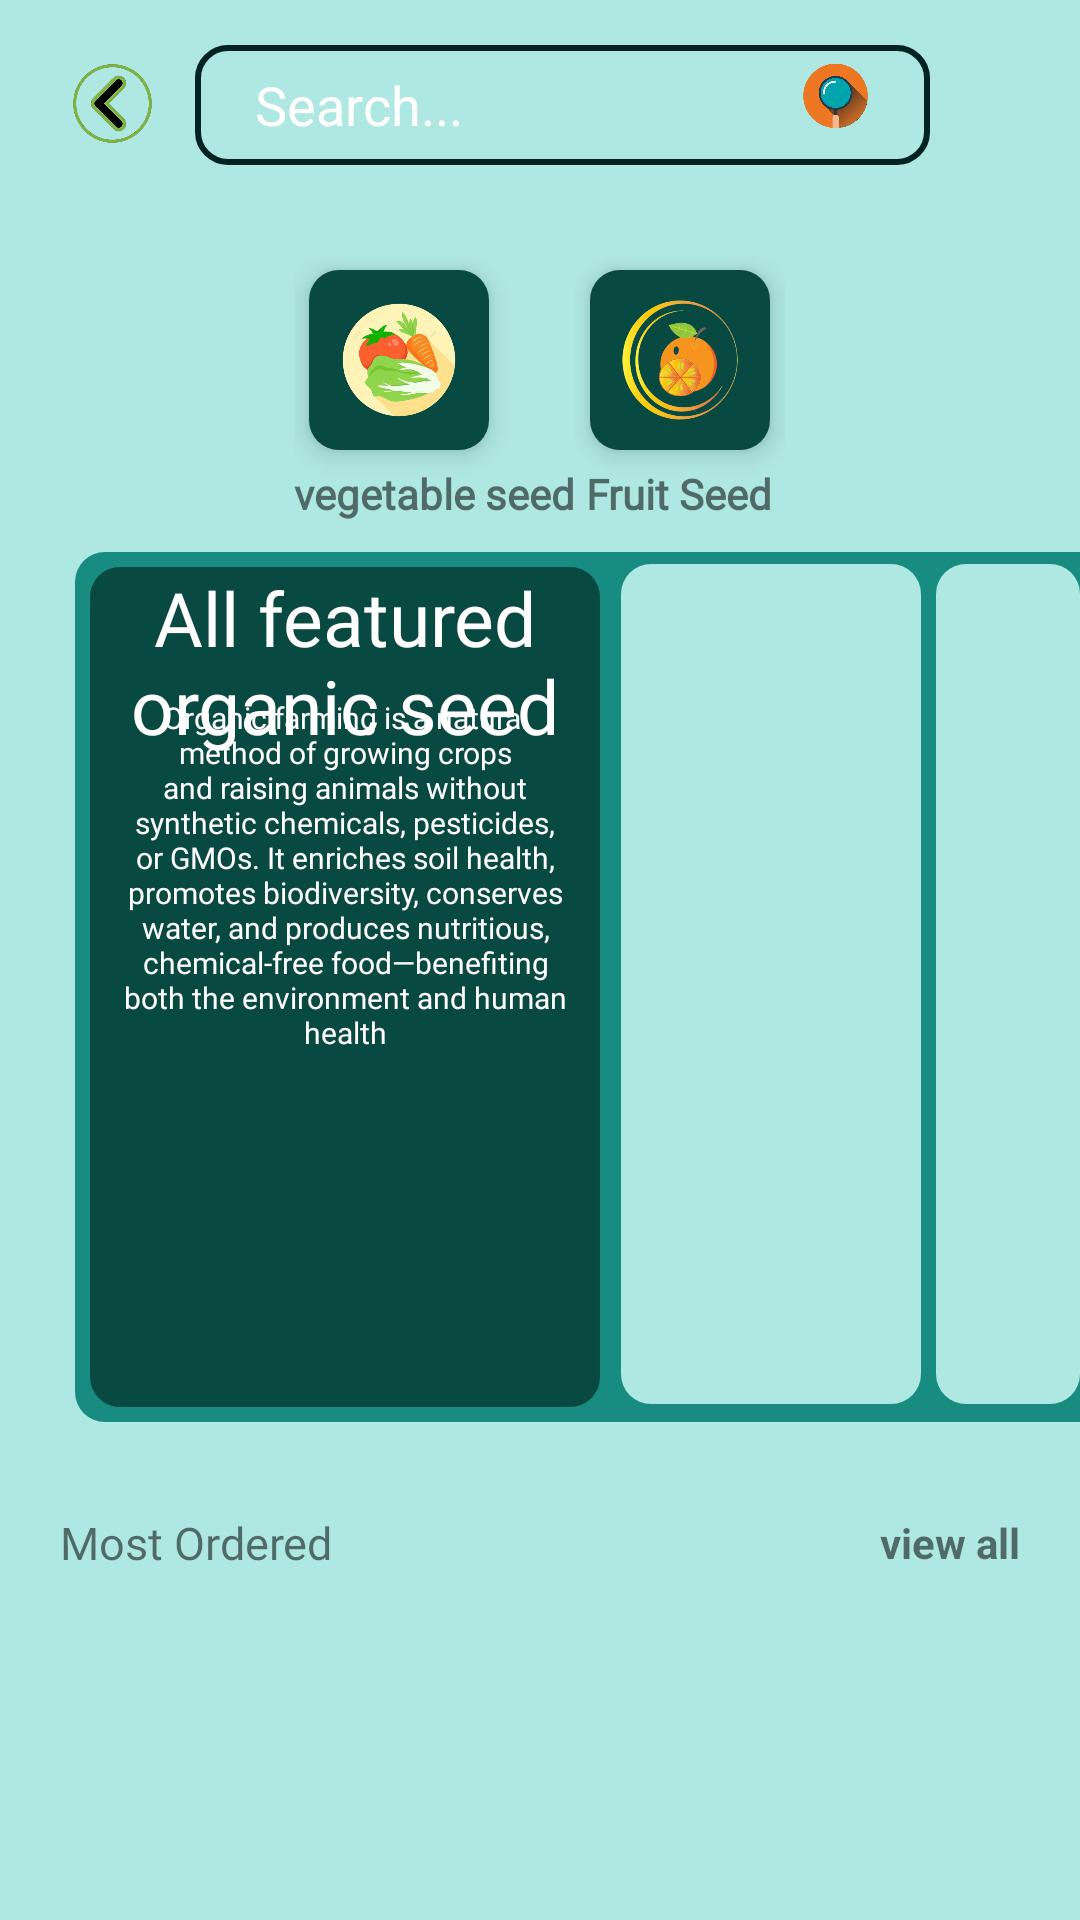

Icons on this 1080 x 1920 Android screen, each with its box as (x1, y1, x2, y2):
ser: (803, 64, 868, 128)
veg: (343, 304, 455, 416)
